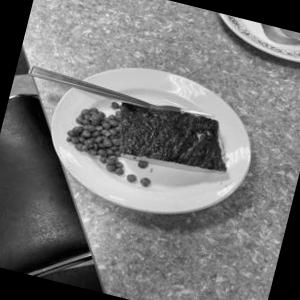casserole: (52, 62, 243, 200)
